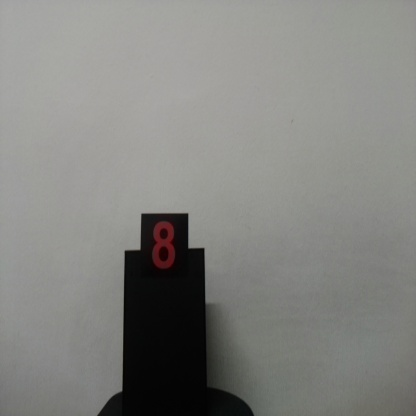id_8: (141, 214, 188, 285)
